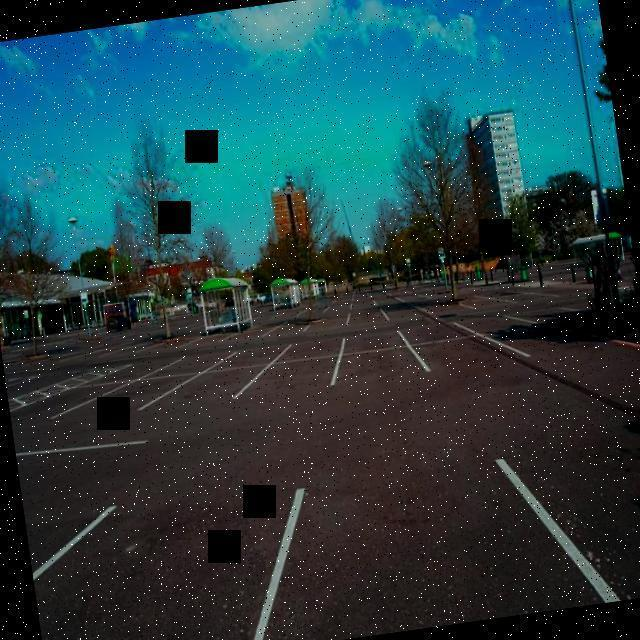free: (250, 452, 621, 640), (33, 485, 307, 640), (49, 370, 208, 417), (137, 361, 273, 410), (230, 350, 348, 399), (404, 332, 536, 375), (329, 339, 434, 388)
